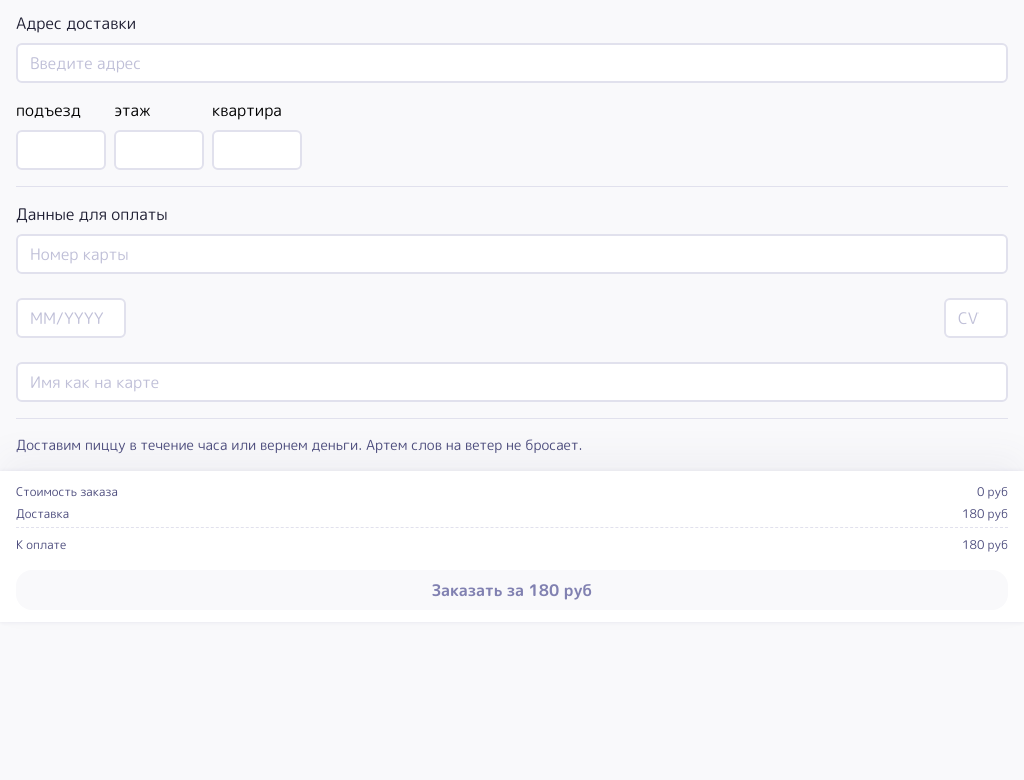
it: Form › on submit › breaks the card number into groups of four digits
The width and height of the screenshot is (1024, 780).
Type "1234123412341234" into the field with test id "card-number". click: (512, 254)
box: [16,234,1008,274]
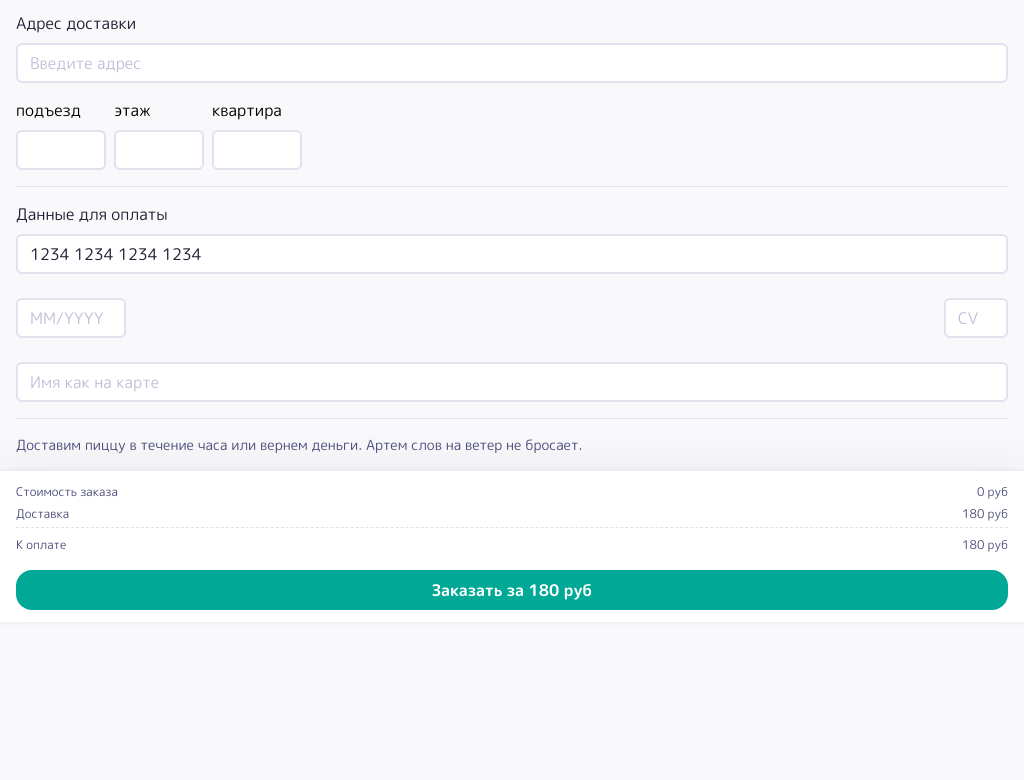
Expected: the field with test id "card-number" holds "1234 1234 1234 1234", [16,234,1008,274]
